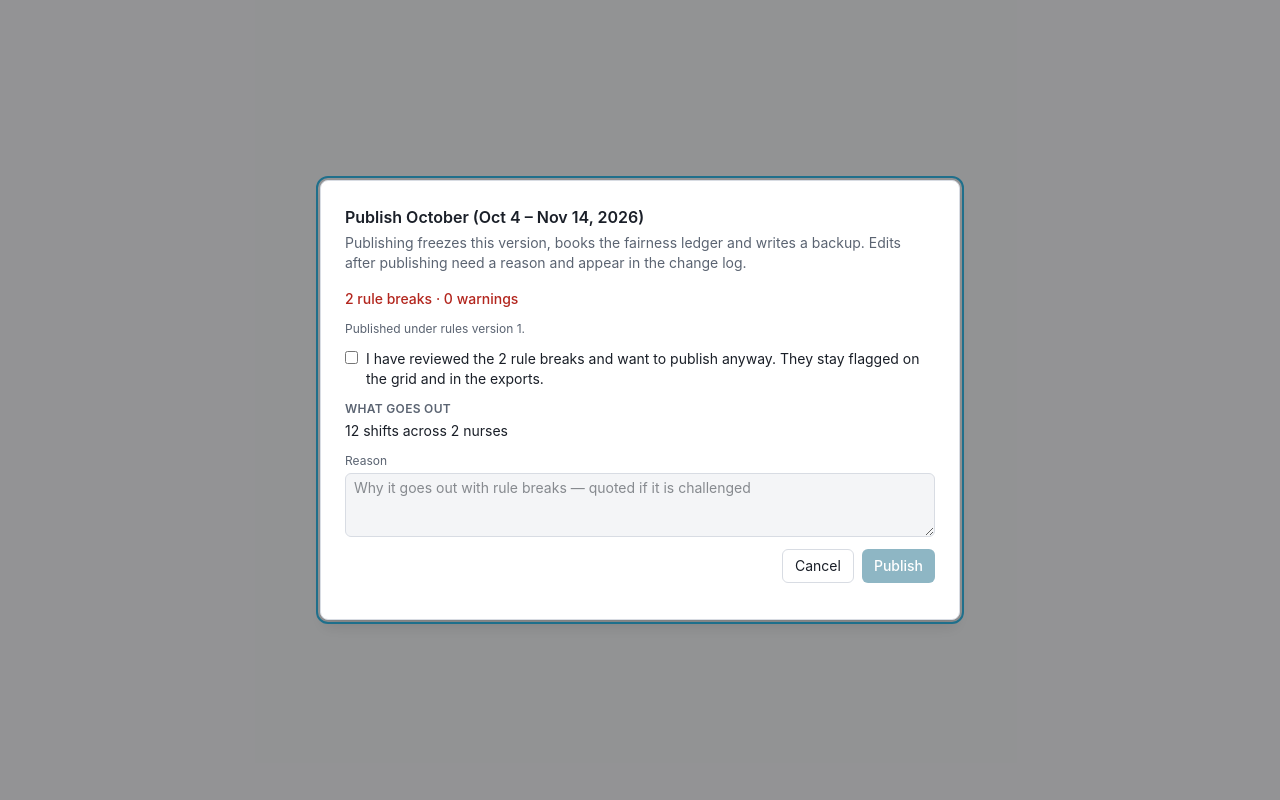
Test: publishing a schedule › asks for a reason before publishing over rule breaks, even the first time
Step 1. Click the checkbox with test id "publish-acknowledge" → (352, 358), box [345,351,358,364]
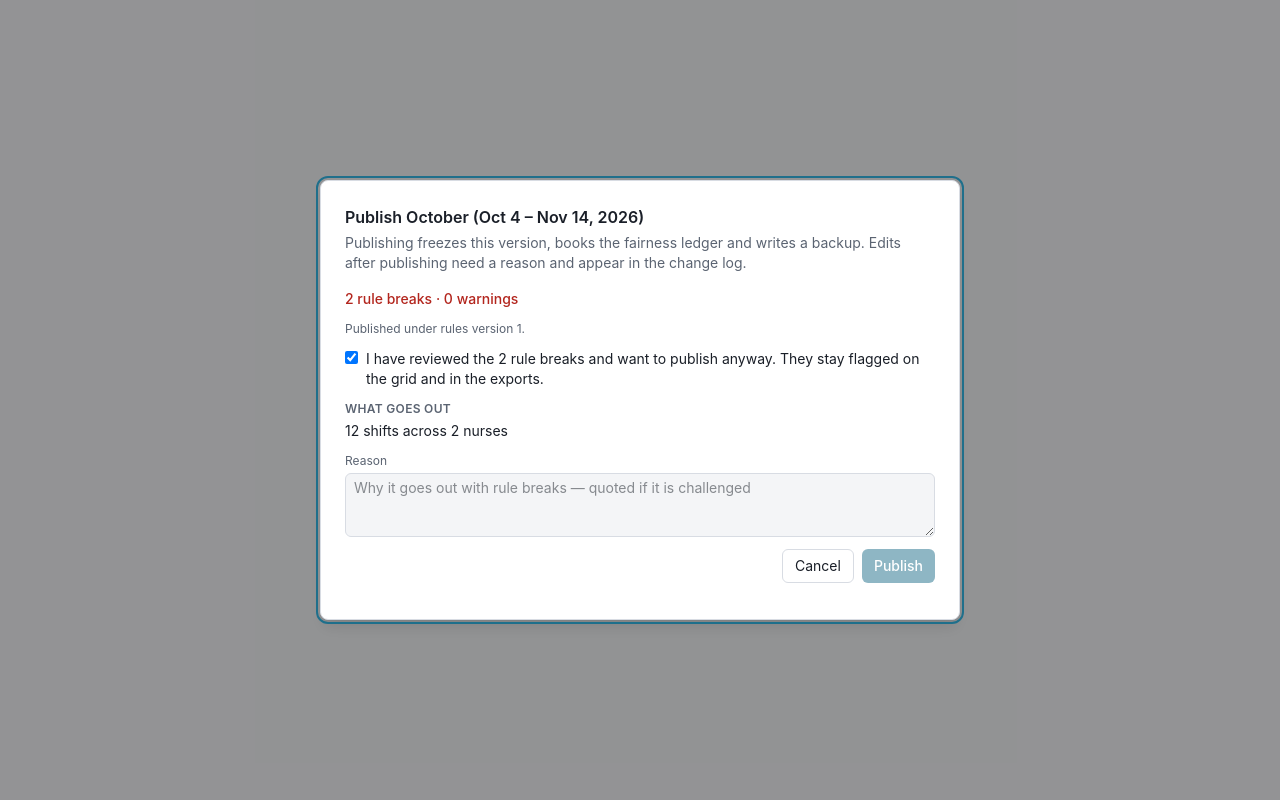
Check: the button with test id "publish-confirm" is disabled, box [862,549,935,583]
Step 2. Replace the text in the text box with test id "publish-reason" with "Agency covers it" → (640, 505), box [345,473,935,537]
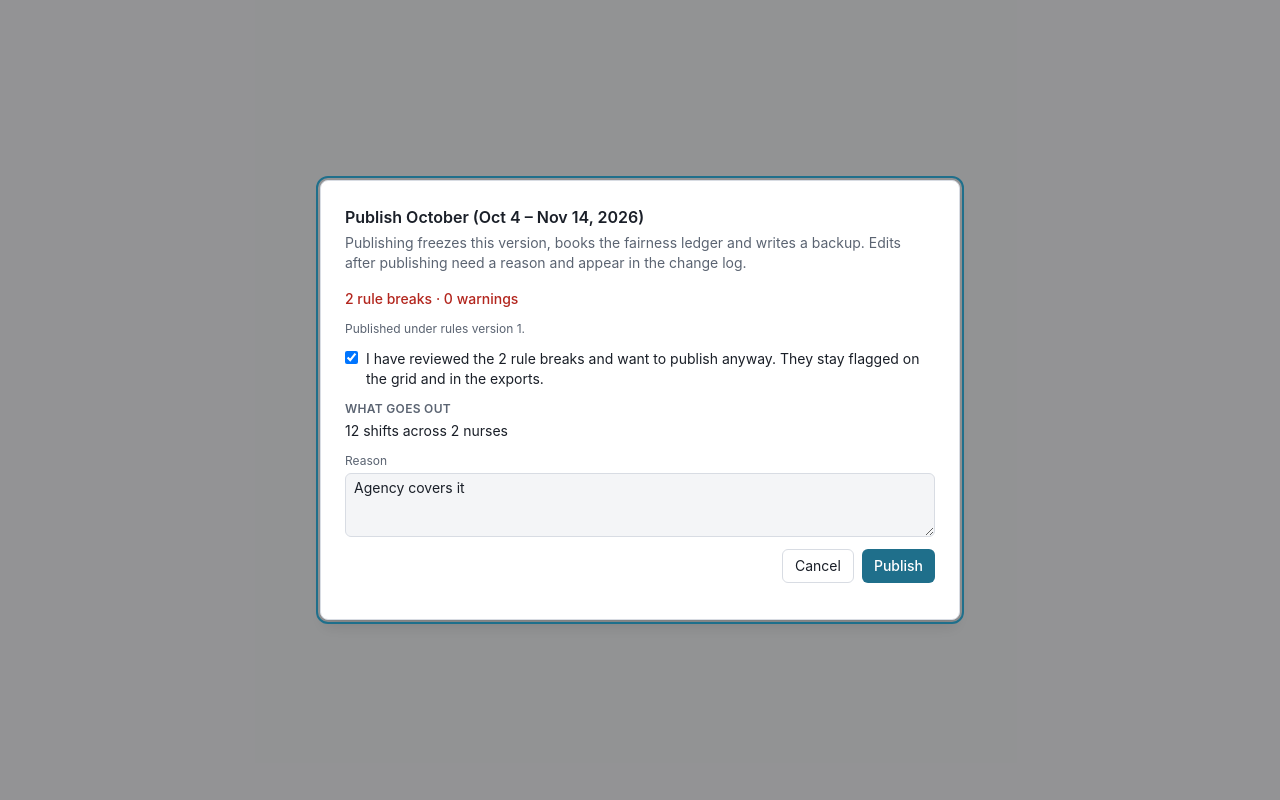
Check: the button with test id "publish-confirm" is enabled, box [862,549,935,583]
